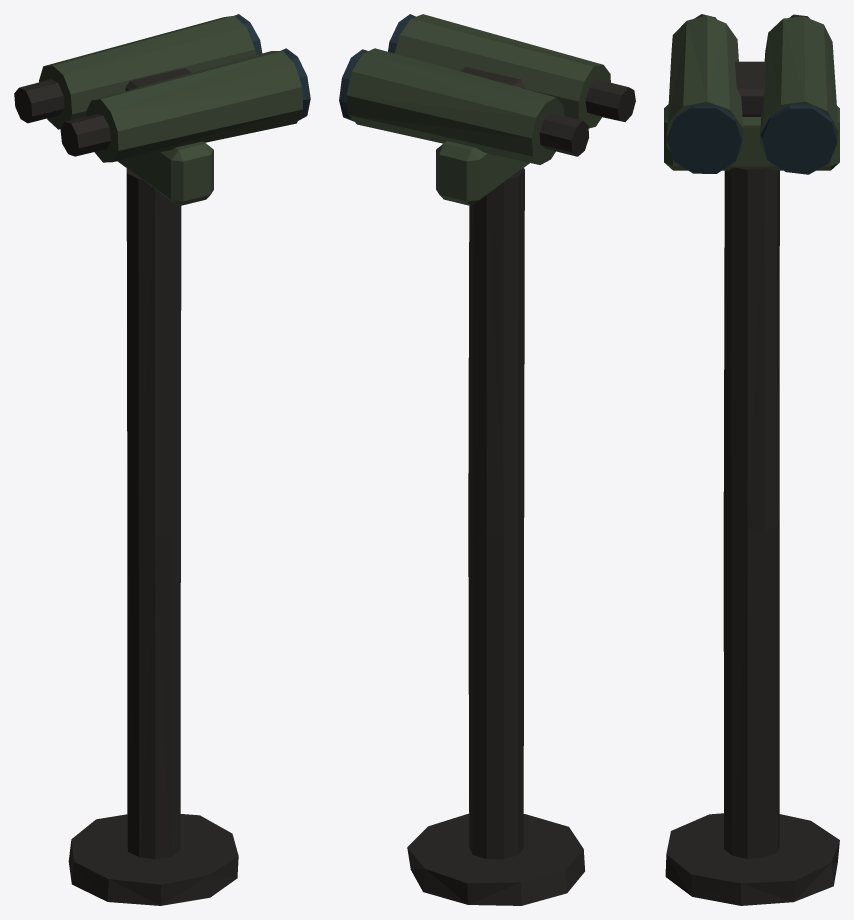
File: binoculars.glb
The picture shows the model from 3 angles, left to right: view 1: azimuth 30°, elevation 25°; view 2: azimuth 150°, elevation 25°; view 3: azimuth 270°, elevation 25°; orthographic projection.
Visible parts, largest first — view 1: binoculars; view 2: binoculars; view 3: binoculars.
Boxes of the visible parts, x1,y1,x2,y2 form: binoculars: (14,14,310,905); binoculars: (339,14,635,905); binoculars: (664,14,839,905).
Size of the model in its own units: 0.415 by 1.46 by 0.28.
